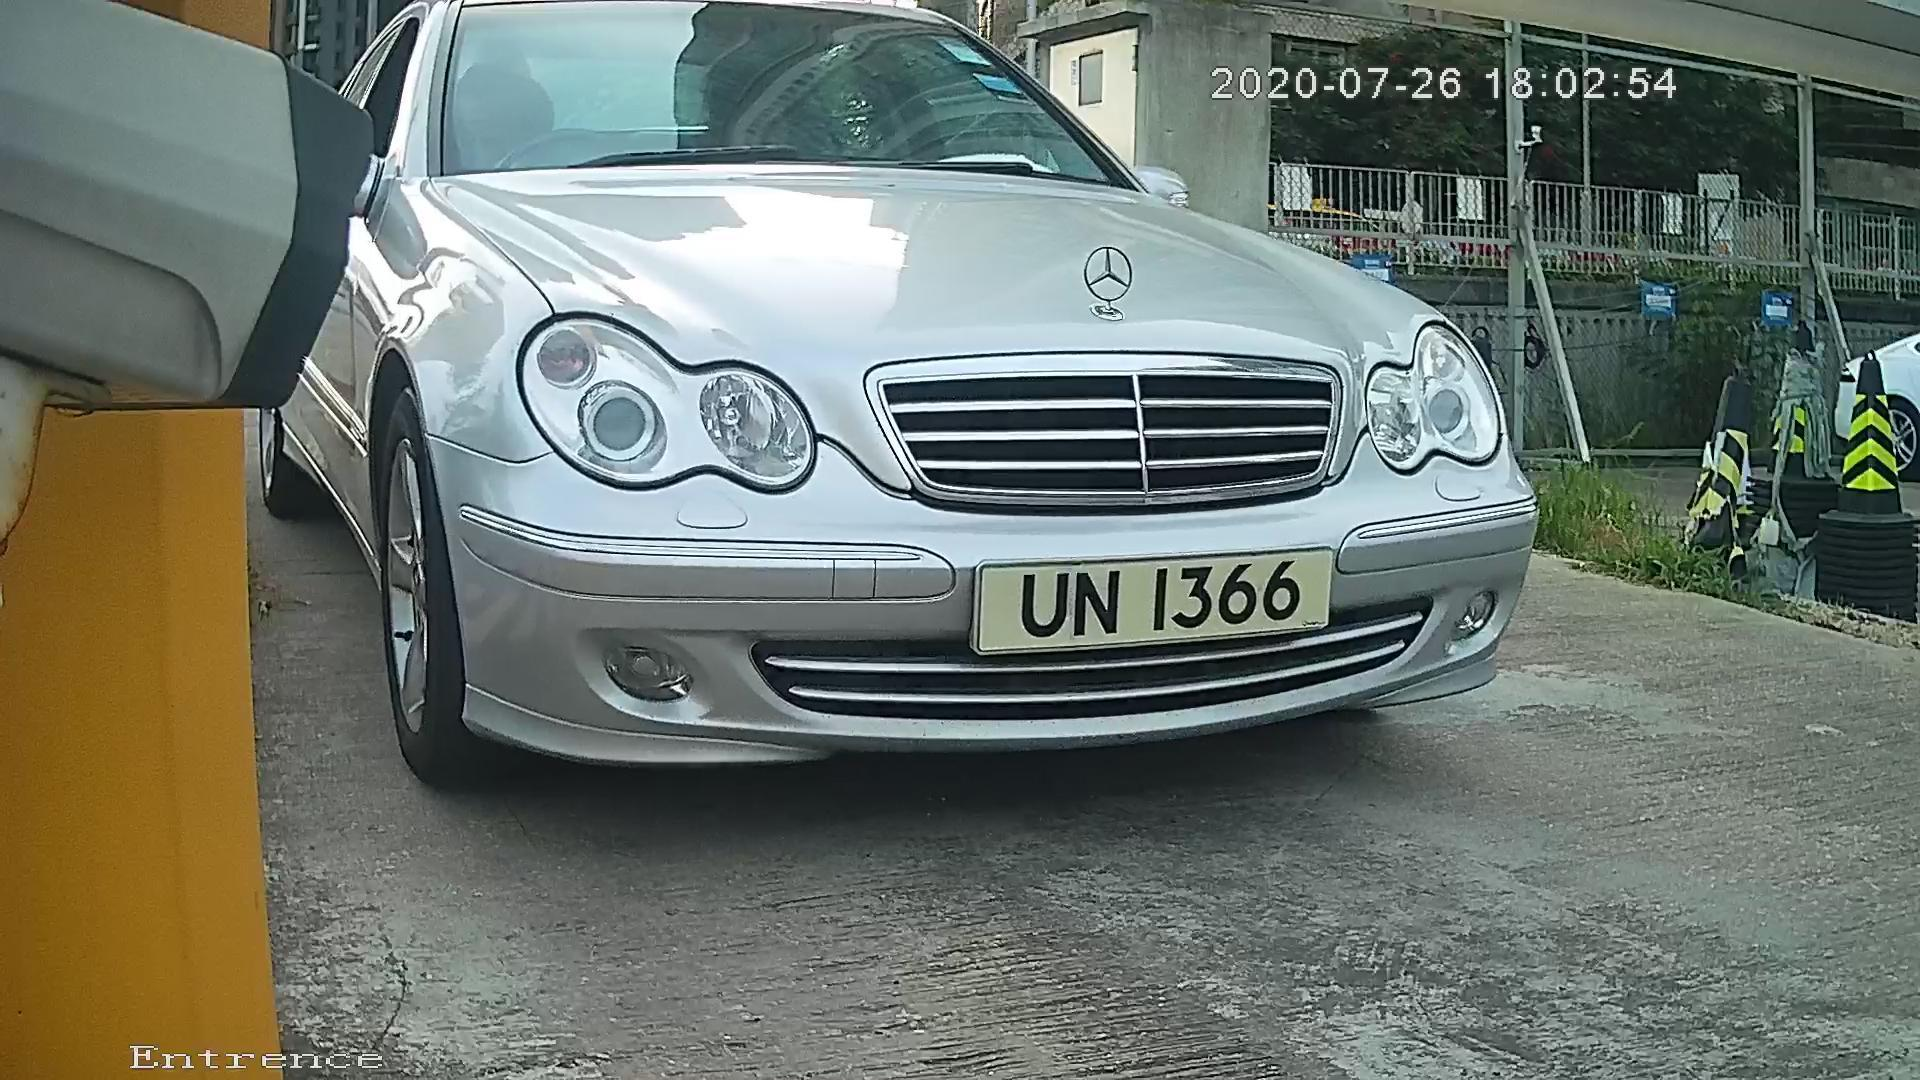License Plate: (935, 536, 1355, 671)
